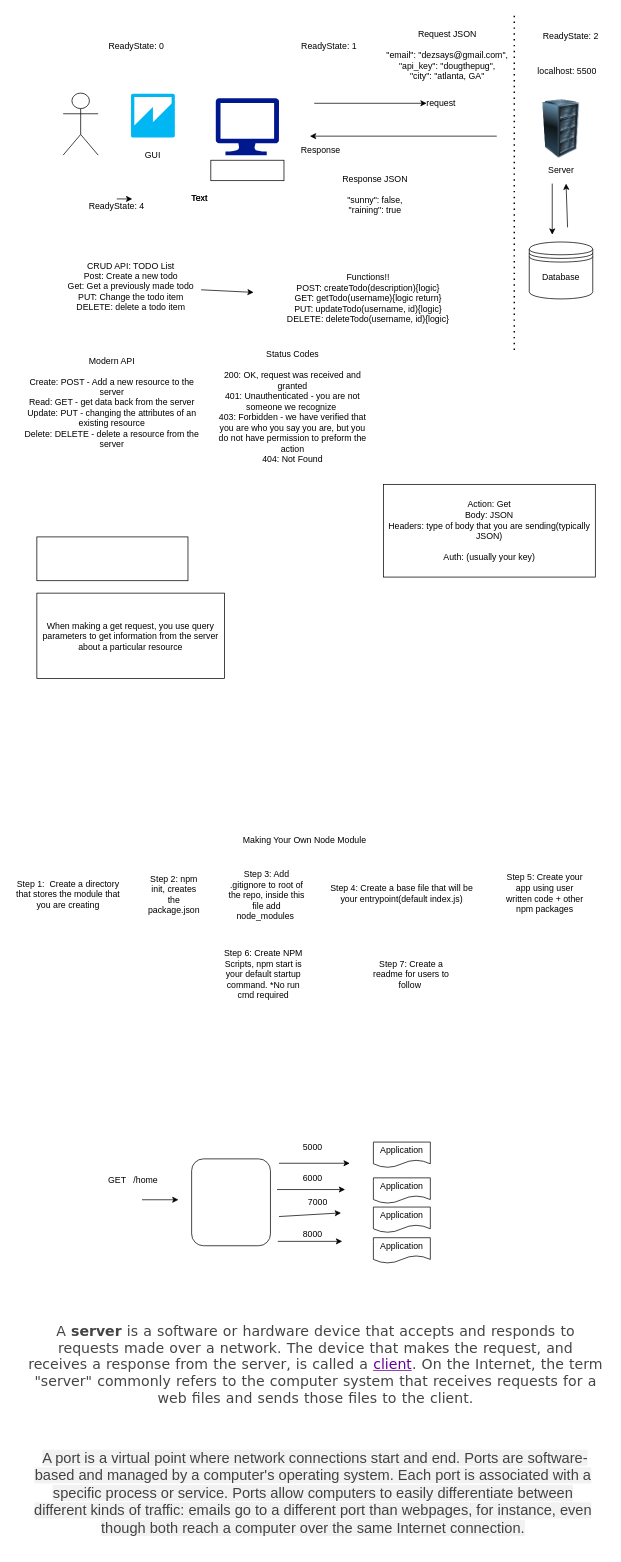
This 621x1562 diagram has some shape labels left out. Each missing label, with the centre of its shape:
"Client" goes at (247,170).
"header: API KEY google.com?location=Atlanta,GA" goes at (112,558).
"localhost (127.0.0.1)" goes at (230,1202).
"User" goes at (80,123).
